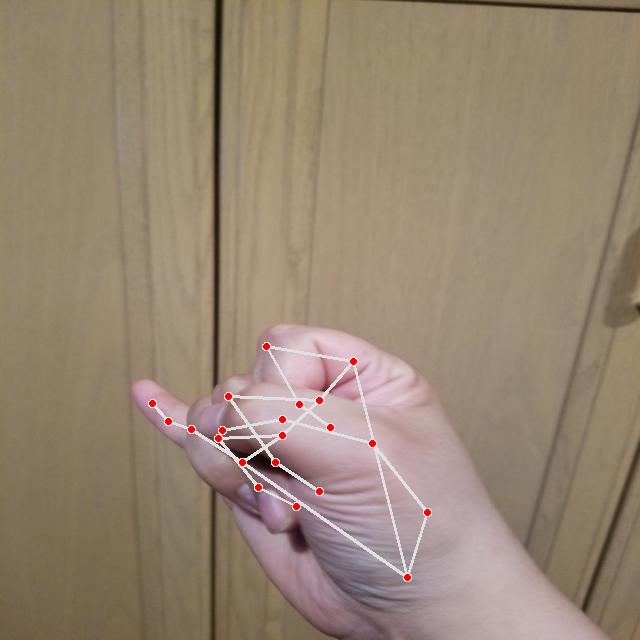J: (124, 315, 519, 640)
